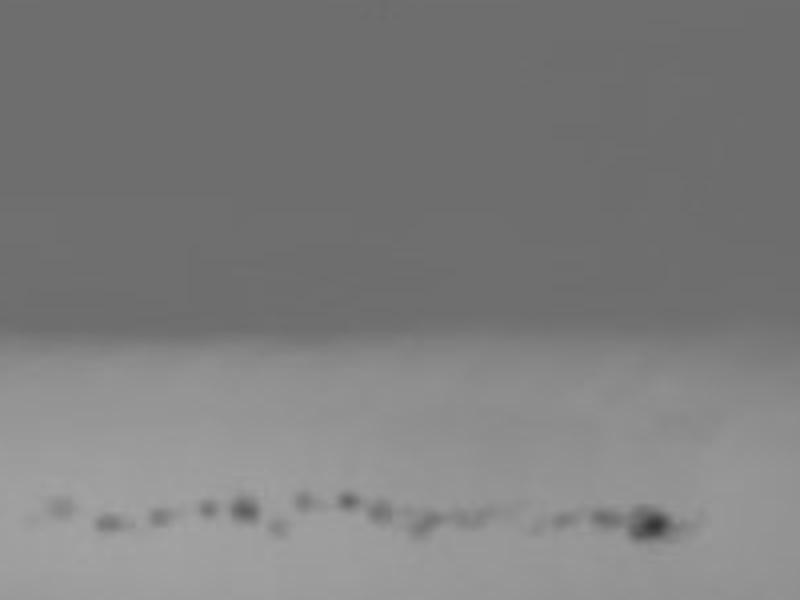defect: (626, 506, 681, 541), (405, 506, 447, 545), (455, 502, 497, 535), (230, 494, 265, 527), (39, 494, 79, 520), (585, 507, 619, 534), (550, 508, 584, 534), (94, 512, 132, 535), (367, 498, 396, 523), (147, 509, 177, 533), (196, 497, 224, 519), (289, 488, 313, 513), (335, 490, 362, 509), (270, 520, 296, 538), (522, 521, 545, 536)
